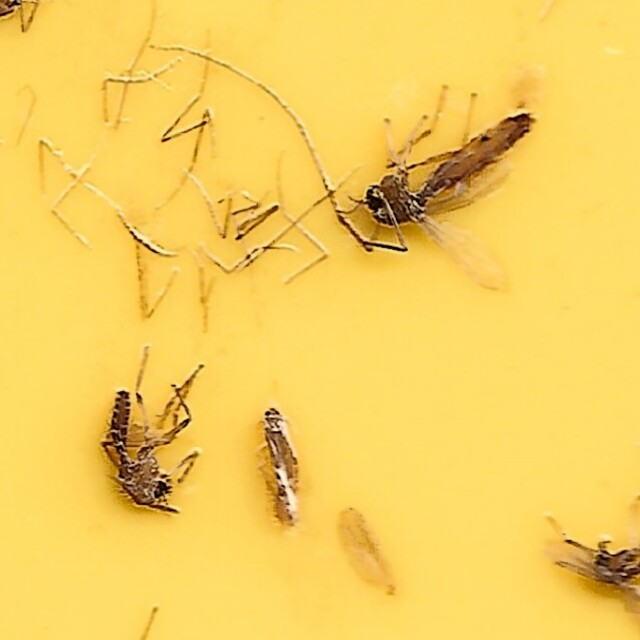Nematocera: (355, 105, 541, 291), (99, 353, 210, 525)
Trichoptera: (256, 399, 309, 535)
